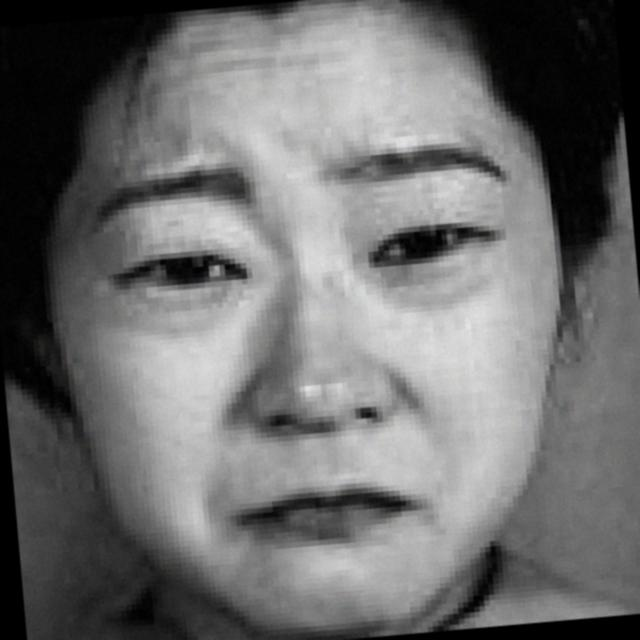sad: (56, 82, 582, 640)
